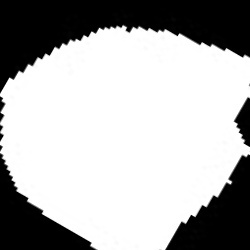spot: (0, 28, 248, 249)
